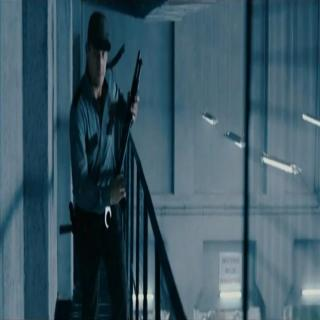gun: (102, 53, 146, 224)
